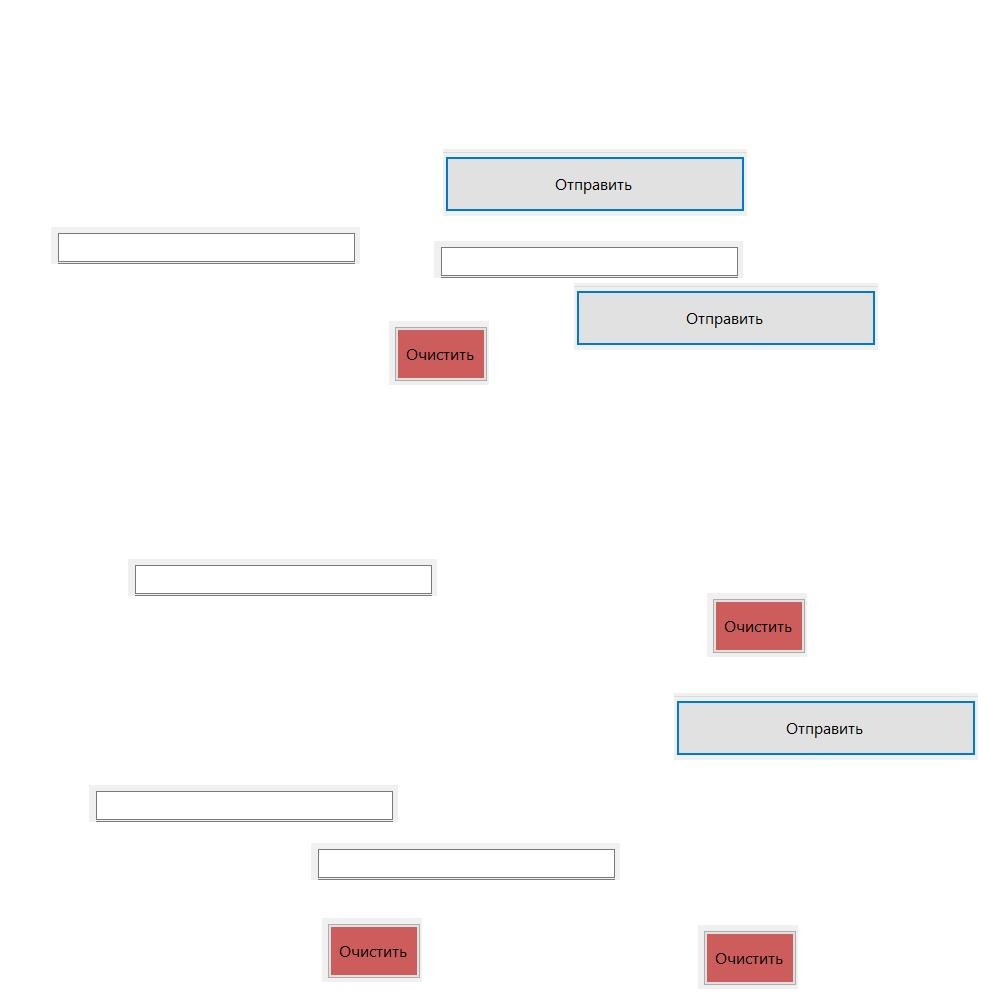Button: (443, 149, 747, 216), (674, 693, 978, 760), (574, 283, 878, 350), (389, 321, 489, 385), (698, 925, 798, 989), (322, 918, 422, 982), (707, 593, 807, 657)
EditText-: (89, 785, 398, 822), (434, 241, 743, 278), (51, 227, 360, 264), (128, 559, 437, 596), (311, 843, 620, 880)
